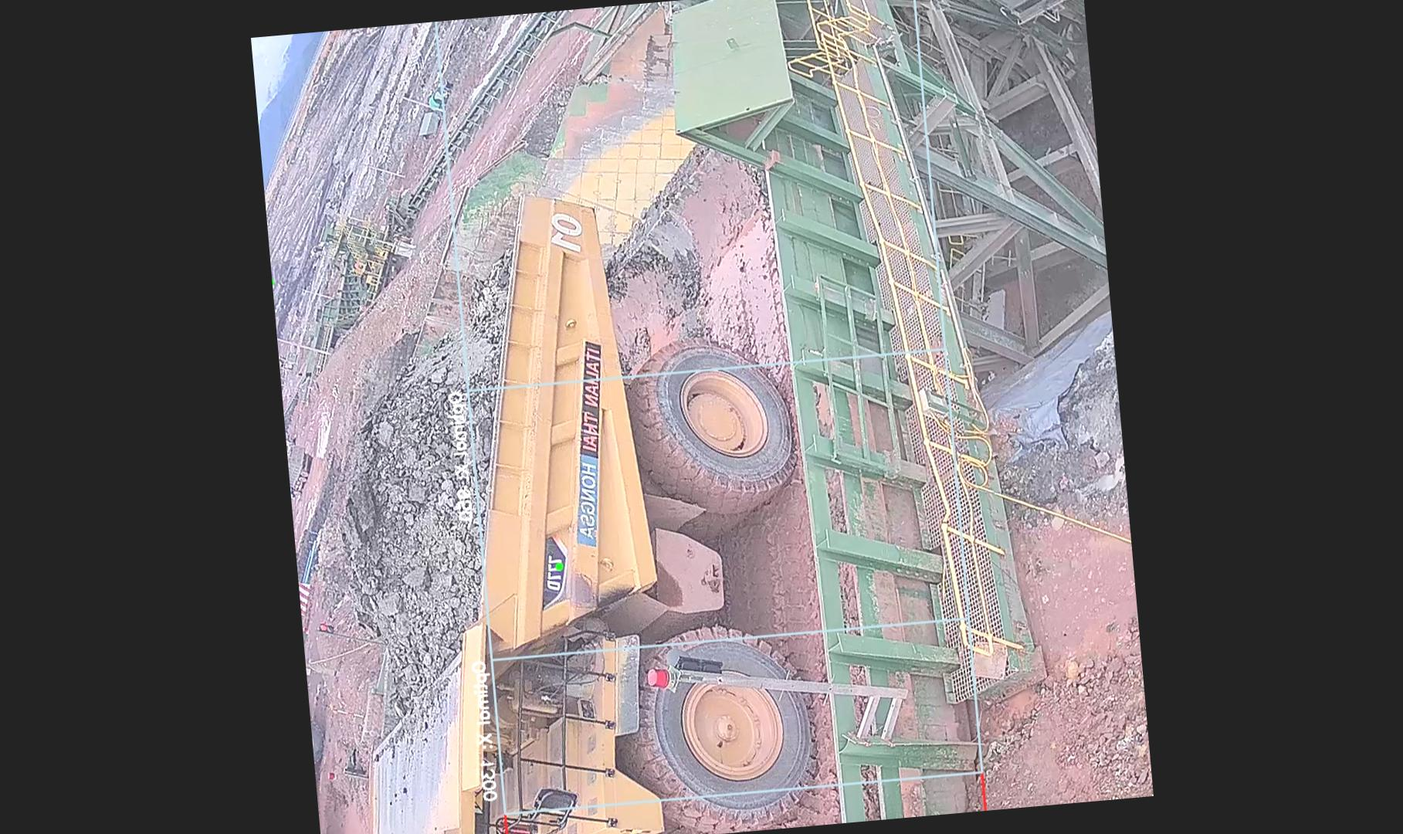company: (547, 324, 629, 561)
full_load: (305, 312, 527, 665)
mining_truck: (286, 162, 832, 834)
tail_number: (529, 201, 596, 269)
truck_size: (527, 522, 572, 610)
